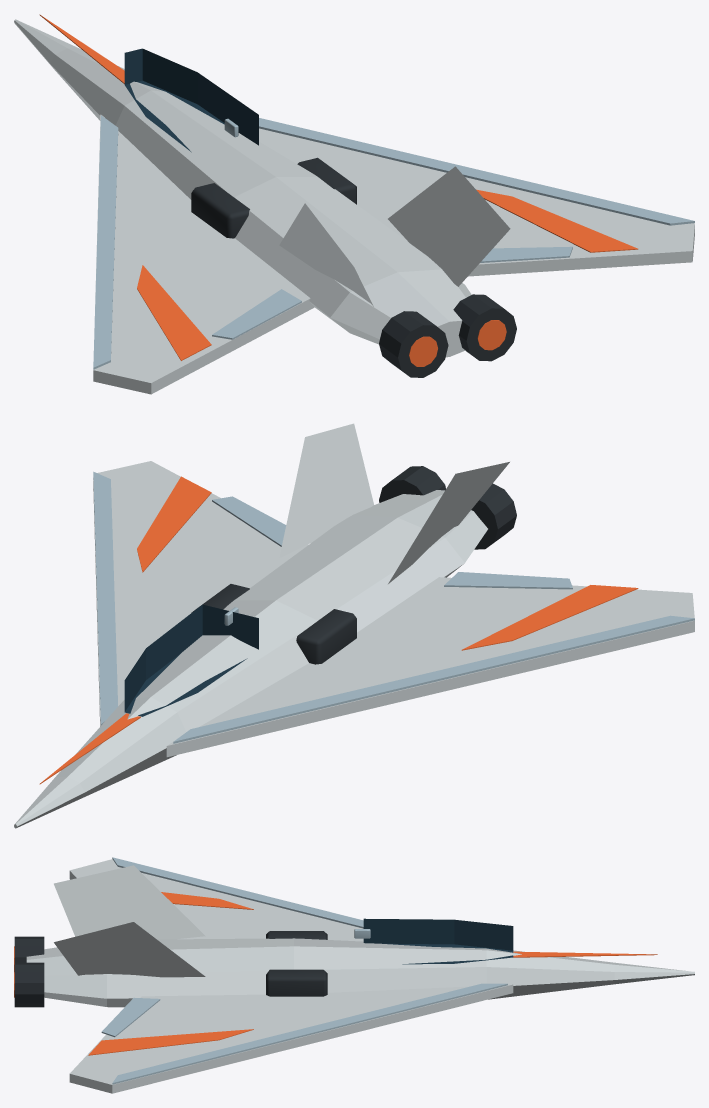
The model's file is player.glb.
3 views of the same model, one above another, from view 1: azimuth 30°, elevation 25°; view 2: azimuth 150°, elevation 25°; view 3: azimuth 270°, elevation 25° (orthographic). The views are drawn at different scales.
Visible parts, largest first — view 1: Faceted lifting fuselage, Swept delta wing -1, Swept delta wing 1, Canted tail stabilizer 1, Navy armored canopy, Silver leading-edge rail 1, Silver leading-edge rail -1, Canted tail stabilizer -1, Twin jet exhaust -1, Orange wing slash 1, Orange wing slash -1, Twin jet exhaust 1 (+7 smaller); view 2: Faceted lifting fuselage, Swept delta wing -1, Swept delta wing 1, Canted tail stabilizer 1, Silver leading-edge rail -1, Navy armored canopy, Silver leading-edge rail 1, Canted tail stabilizer -1, Orange wing slash -1, Orange wing slash 1, Shoulder intake -1, Twin jet exhaust -1 (+4 smaller); view 3: Faceted lifting fuselage, Swept delta wing 1, Canted tail stabilizer -1, Swept delta wing -1, Canted tail stabilizer 1, Navy armored canopy, Silver leading-edge rail 1, Silver leading-edge rail -1, Shoulder intake 1, Orange wing slash 1, Twin jet exhaust 1, Inset elevon 1 (+4 smaller).
Part boxes in pixels (x1=…): Faceted lifting fuselage: x1=14, y1=19, x2=471, y2=357; Swept delta wing -1: x1=93, y1=114, x2=314, y2=394; Swept delta wing 1: x1=259, y1=128, x2=694, y2=276; Canted tail stabilizer 1: x1=388, y1=166, x2=510, y2=286; Navy armored canopy: x1=124, y1=48, x2=258, y2=152; Silver leading-edge rail 1: x1=259, y1=118, x2=694, y2=225; Silver leading-edge rail -1: x1=93, y1=115, x2=118, y2=369; Canted tail stabilizer -1: x1=279, y1=203, x2=373, y2=306; Twin jet exhaust -1: x1=379, y1=311, x2=448, y2=377; Orange wing slash 1: x1=476, y1=189, x2=638, y2=252; Orange wing slash -1: x1=137, y1=265, x2=211, y2=360; Twin jet exhaust 1: x1=453, y1=294, x2=516, y2=361; Faceted lifting fuselage: x1=14, y1=490, x2=487, y2=828; Swept delta wing -1: x1=166, y1=577, x2=694, y2=757; Swept delta wing 1: x1=93, y1=461, x2=308, y2=726; Canted tail stabilizer 1: x1=279, y1=423, x2=373, y2=557; Silver leading-edge rail -1: x1=173, y1=615, x2=694, y2=743; Navy armored canopy: x1=124, y1=604, x2=258, y2=716; Silver leading-edge rail 1: x1=93, y1=471, x2=118, y2=725; Canted tail stabilizer -1: x1=388, y1=462, x2=509, y2=583; Orange wing slash -1: x1=461, y1=585, x2=638, y2=650; Orange wing slash 1: x1=137, y1=476, x2=211, y2=572; Shoulder intake -1: x1=296, y1=609, x2=356, y2=664; Twin jet exhaust -1: x1=471, y1=483, x2=516, y2=549; Faceted lifting fuselage: x1=26, y1=938, x2=694, y2=1007; Swept delta wing 1: x1=69, y1=984, x2=513, y2=1093; Canted tail stabilizer -1: x1=54, y1=865, x2=205, y2=939; Swept delta wing -1: x1=69, y1=859, x2=363, y2=941; Canted tail stabilizer 1: x1=54, y1=922, x2=205, y2=977; Navy armored canopy: x1=363, y1=918, x2=513, y2=964; Silver leading-edge rail 1: x1=112, y1=983, x2=507, y2=1084; Silver leading-edge rail -1: x1=112, y1=857, x2=363, y2=928; Shoulder intake 1: x1=266, y1=969, x2=327, y2=996; Orange wing slash 1: x1=88, y1=1029, x2=253, y2=1055; Twin jet exhaust 1: x1=14, y1=962, x2=44, y2=1007; Inset elevon 1: x1=101, y1=997, x2=160, y2=1037.
Bounding box in the file's own units: 10 × 2.21 × 12.74.
